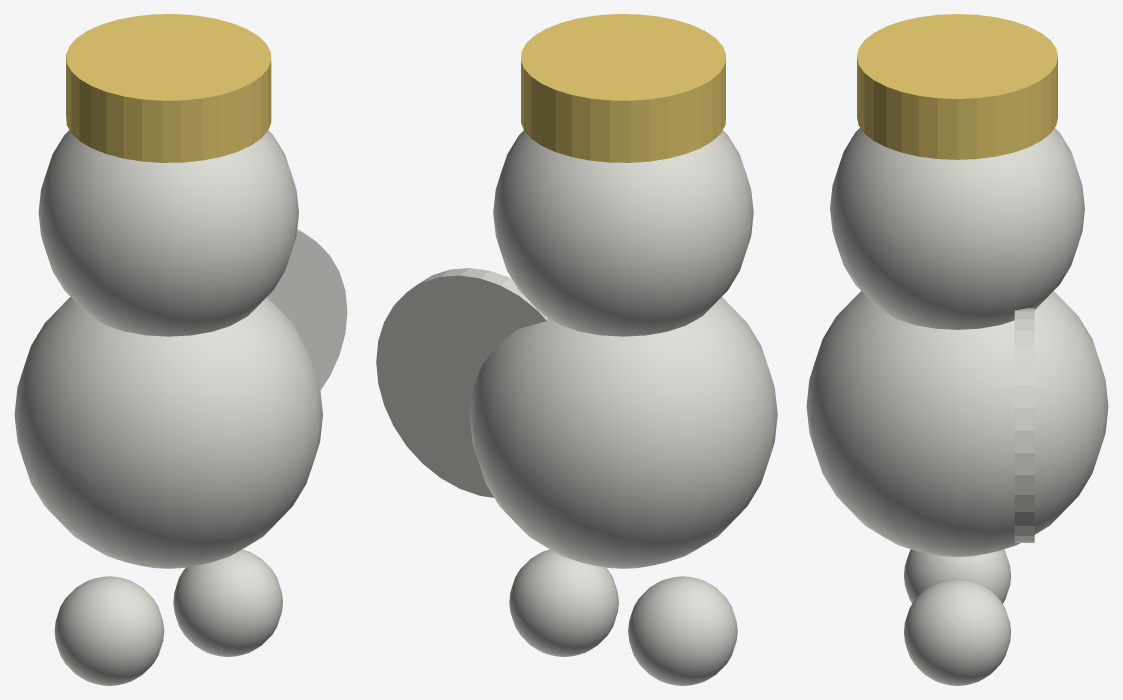
Rendered from clay_lid_knight.glb.
3 views of the same model, side by side, from view 1: azimuth 30°, elevation 25°; view 2: azimuth 150°, elevation 25°; view 3: azimuth 270°, elevation 25° (orthographic). The views are drawn at different scales.
Visible parts, largest first — view 1: leg.001; view 2: leg.001; view 3: leg.001.
Boxes of the visible parts, <box> form: leg.001: <box>14,14,347,685</box>; leg.001: <box>376,14,777,685</box>; leg.001: <box>806,14,1108,685</box>.
Bounding box in the file's own units: 1.15 × 1.96 × 0.8999.
